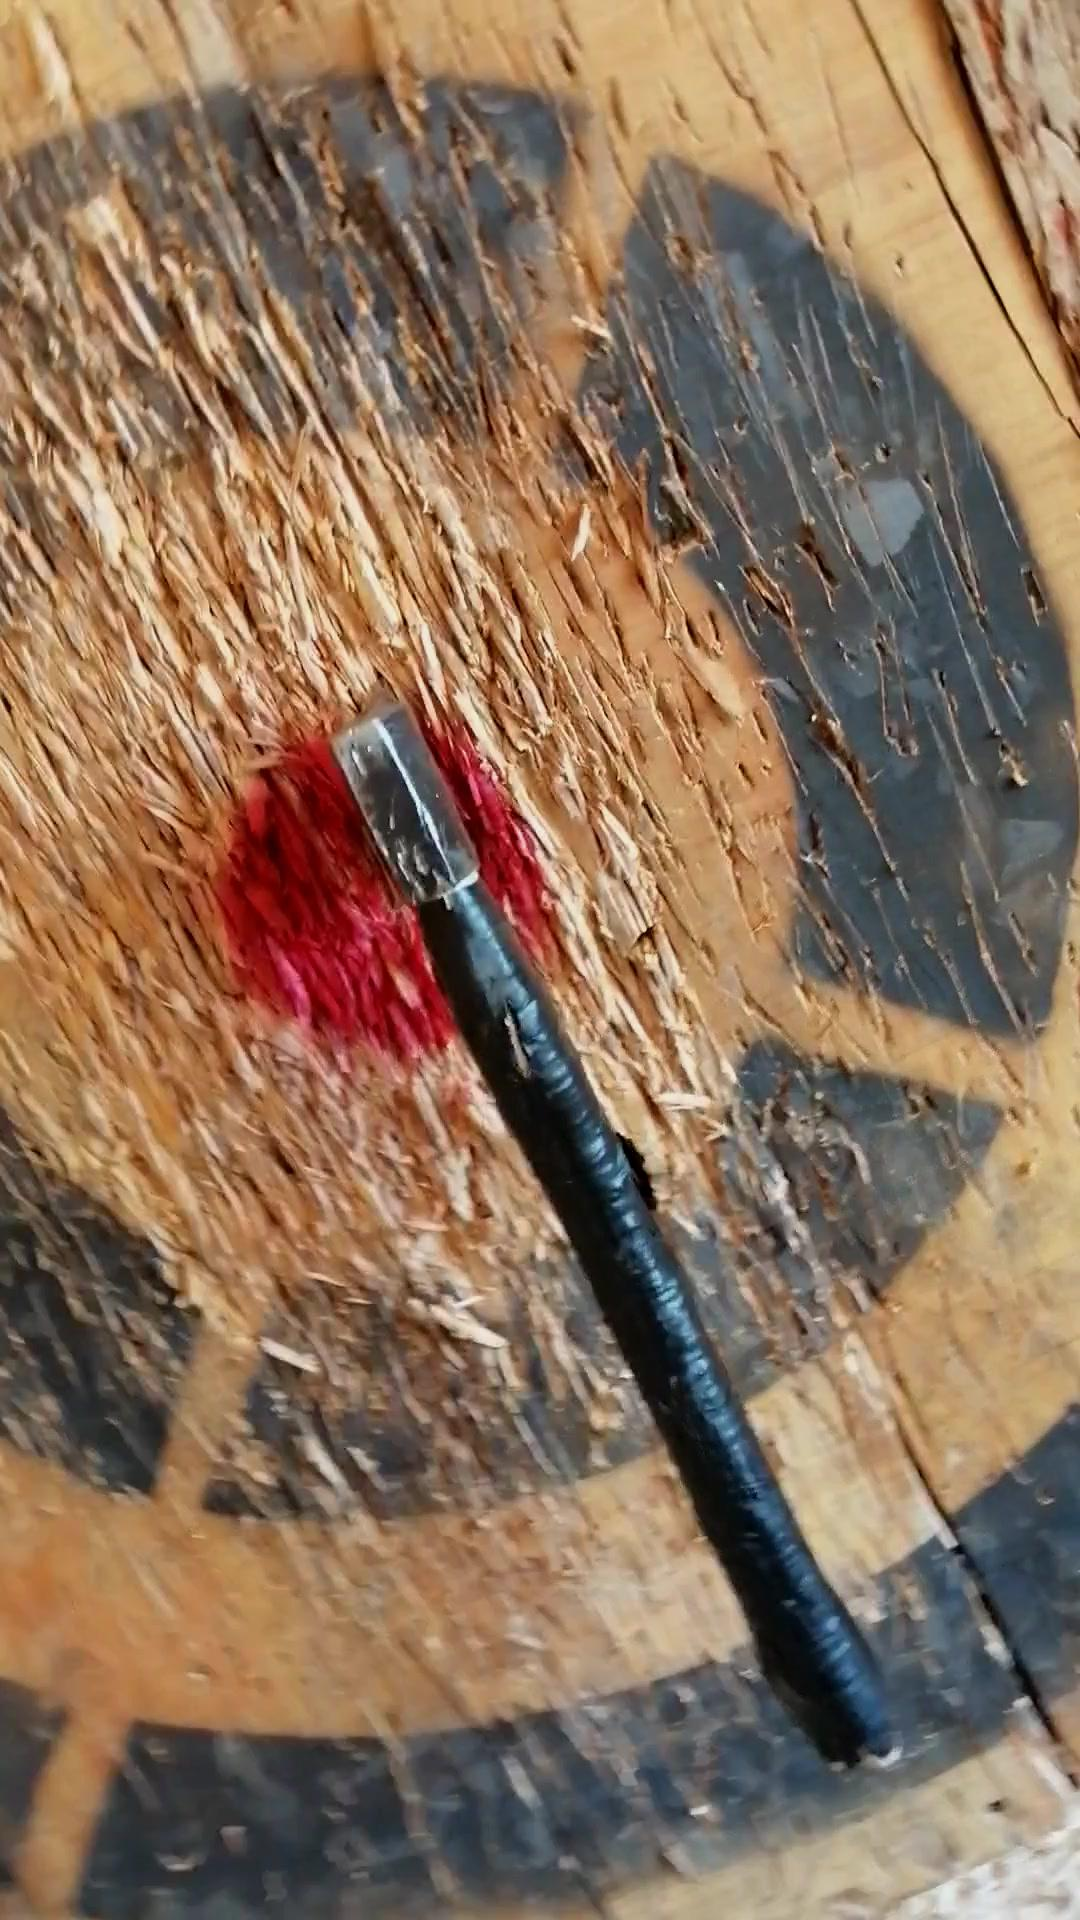Hand Axe: (328, 700, 483, 907)
